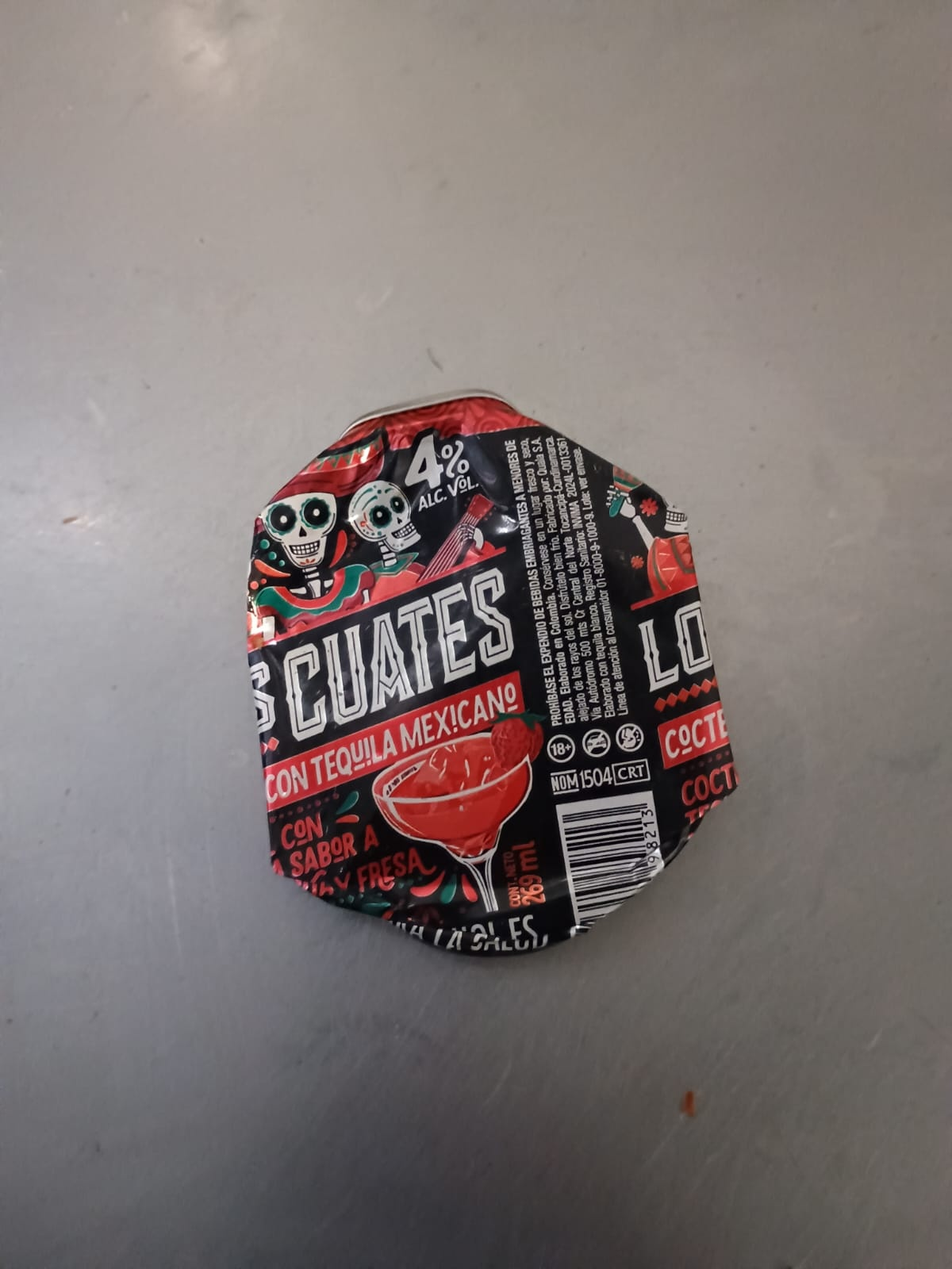Metal: (244, 393, 740, 954)
